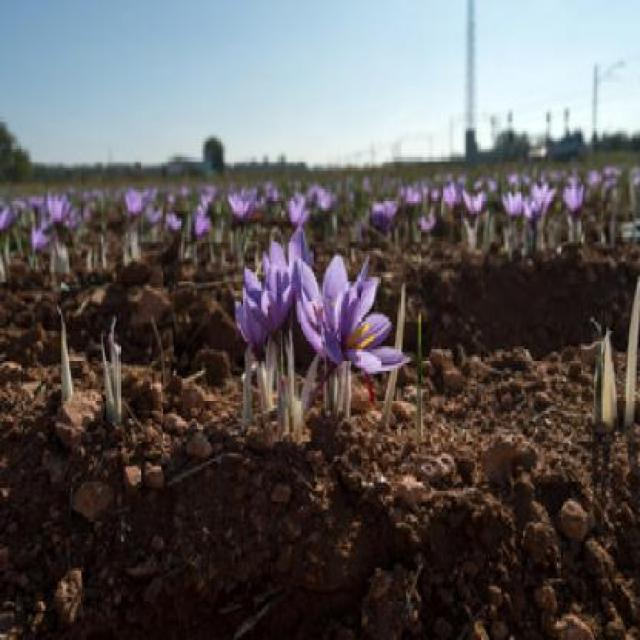Flower: (294, 254, 412, 375), (243, 249, 299, 326), (223, 188, 259, 226), (286, 196, 312, 224), (500, 188, 520, 217), (30, 220, 48, 252)
